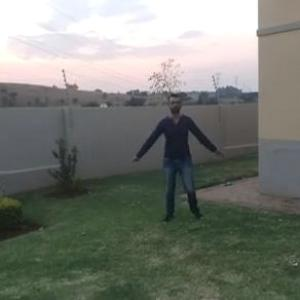land: (120, 88, 225, 222)
